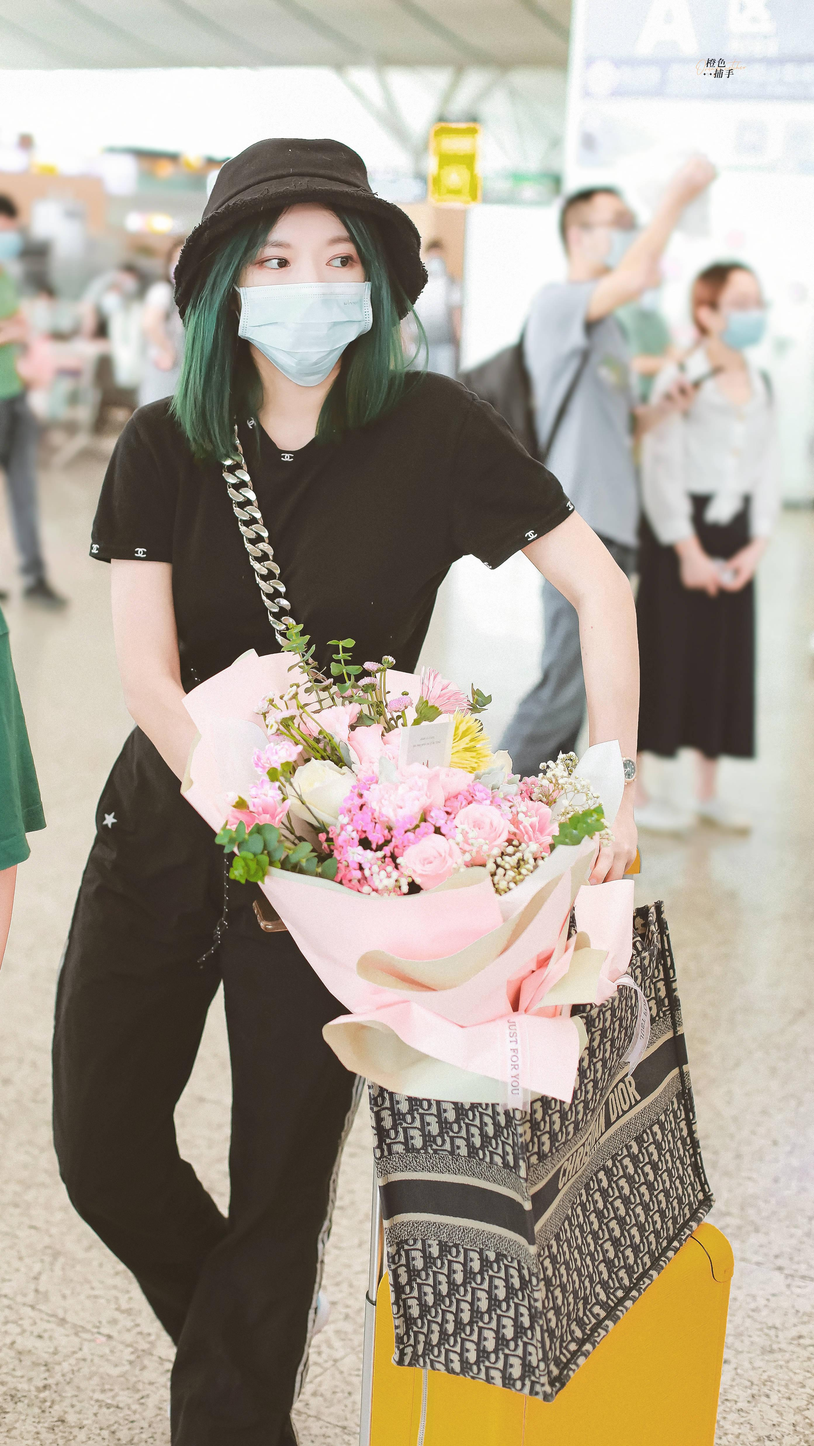OK: (239, 219, 372, 380), (719, 280, 765, 353), (598, 205, 639, 282)
